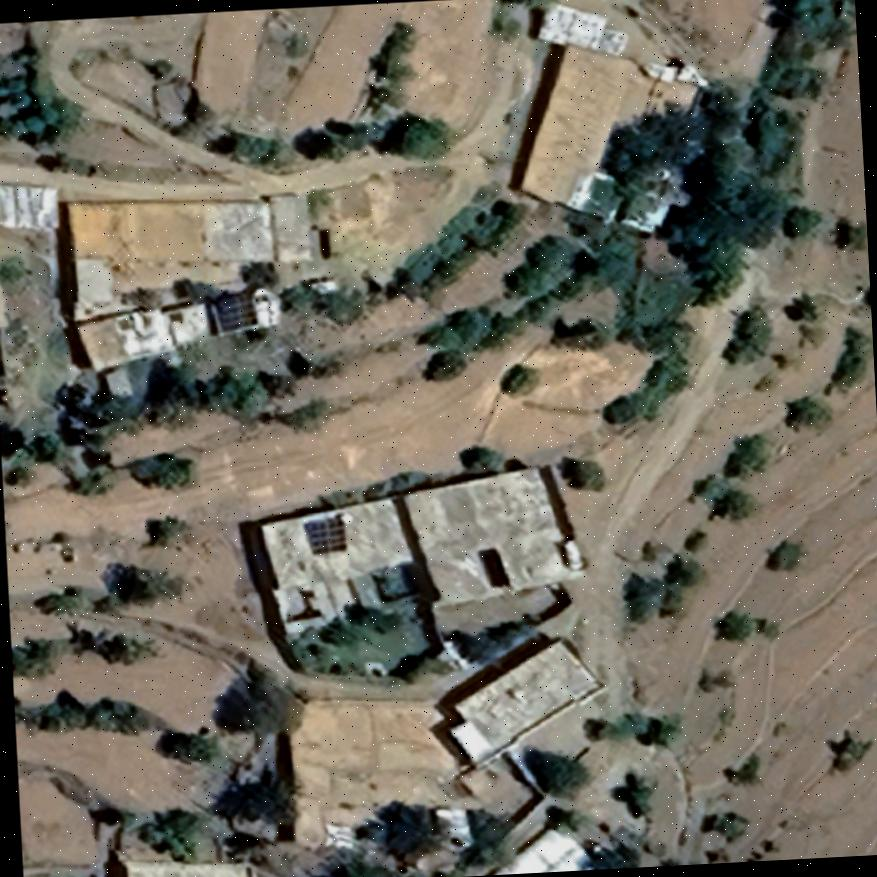Solarpanel: (210, 284, 262, 336), (300, 510, 352, 558)
